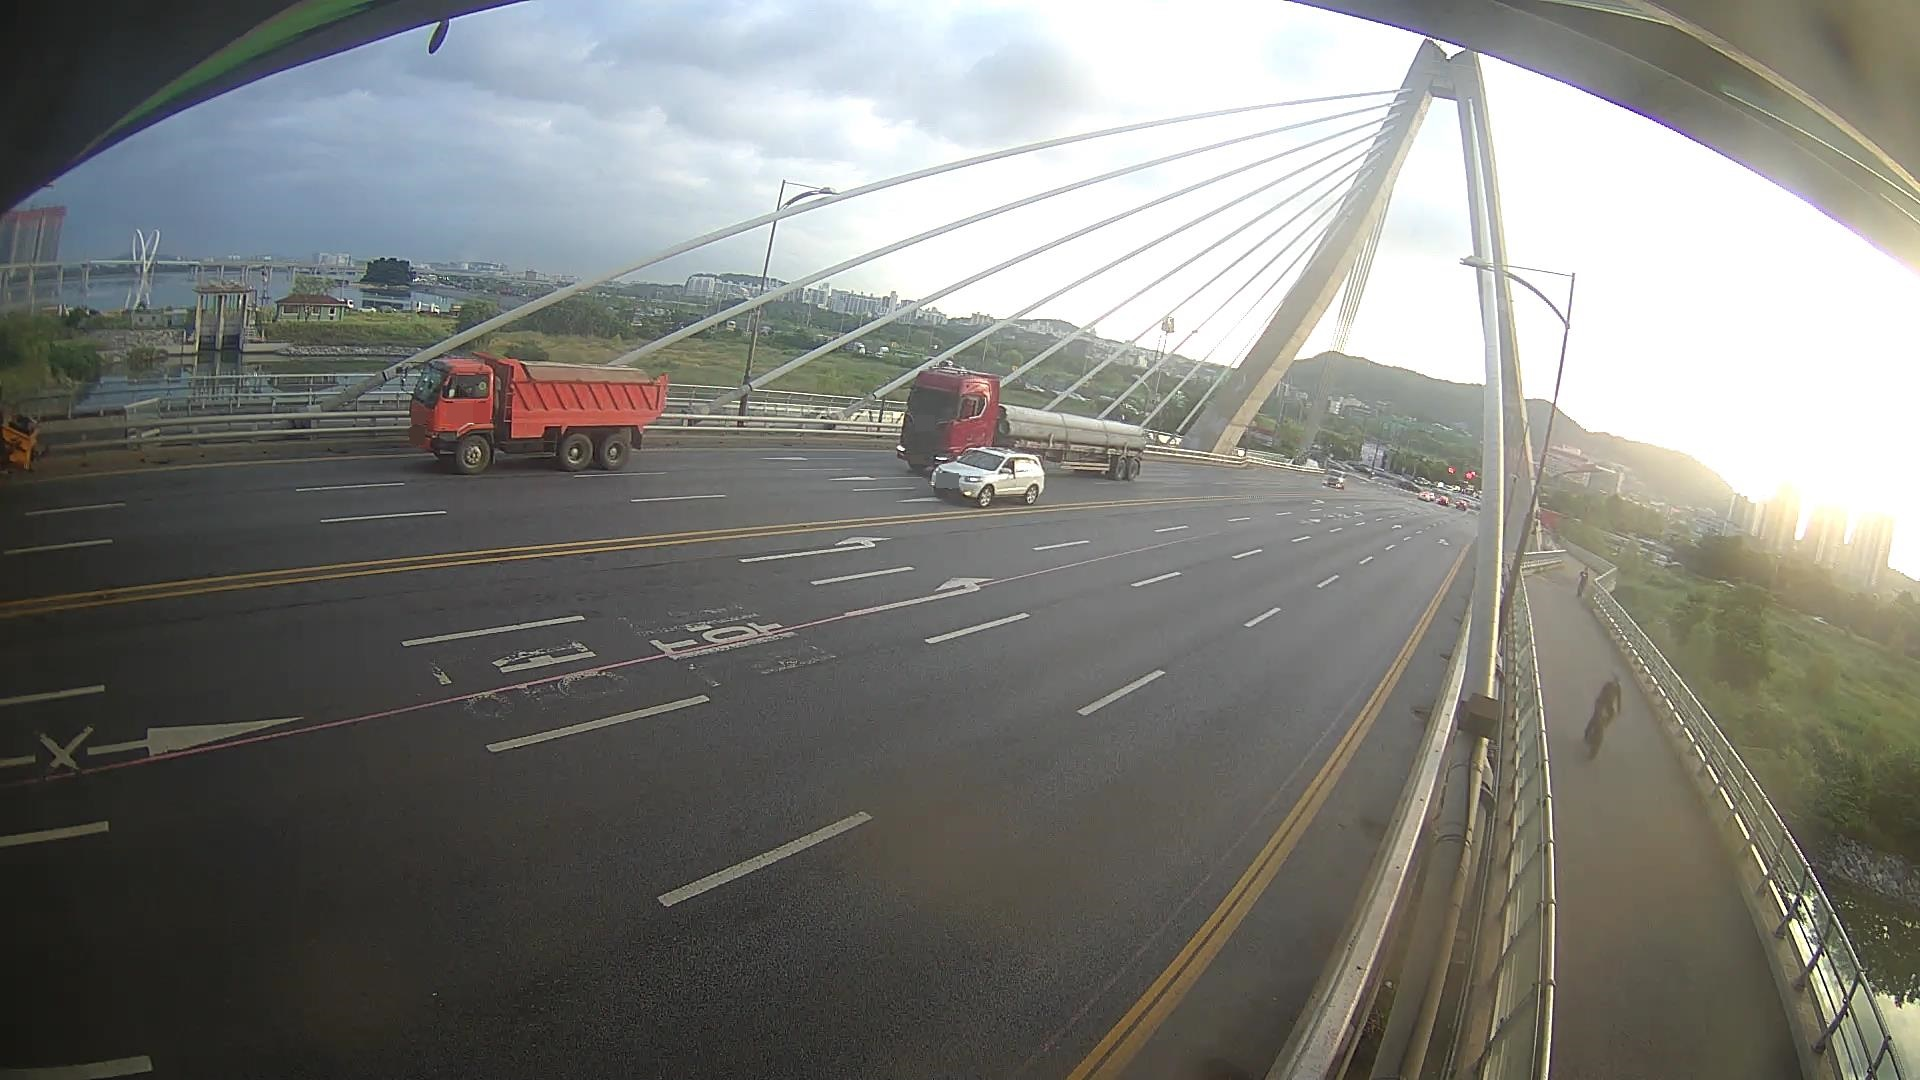정상차량: (396, 352, 669, 475)
